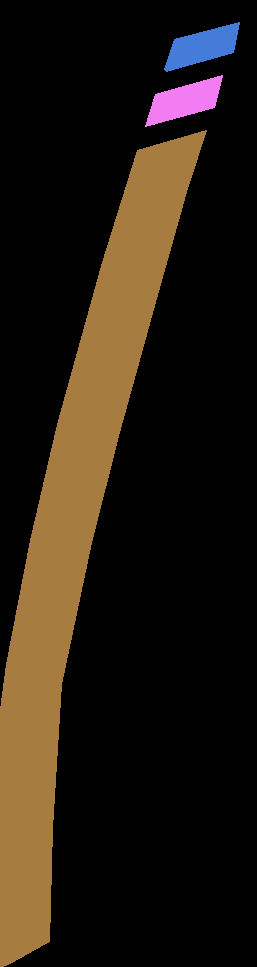parkingspot: (0, 130, 206, 966), (145, 75, 222, 126), (164, 22, 239, 71)
